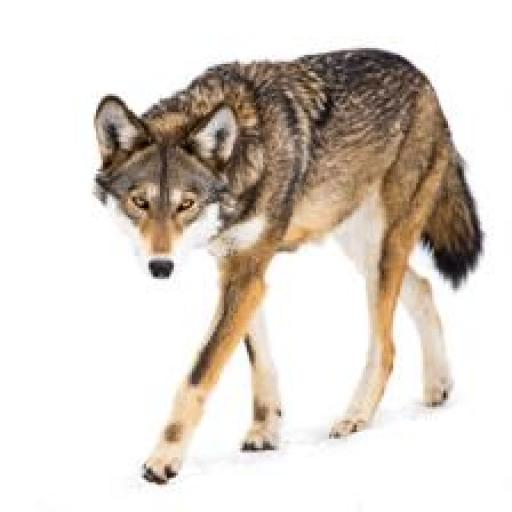wolf: (16, 0, 501, 512)
